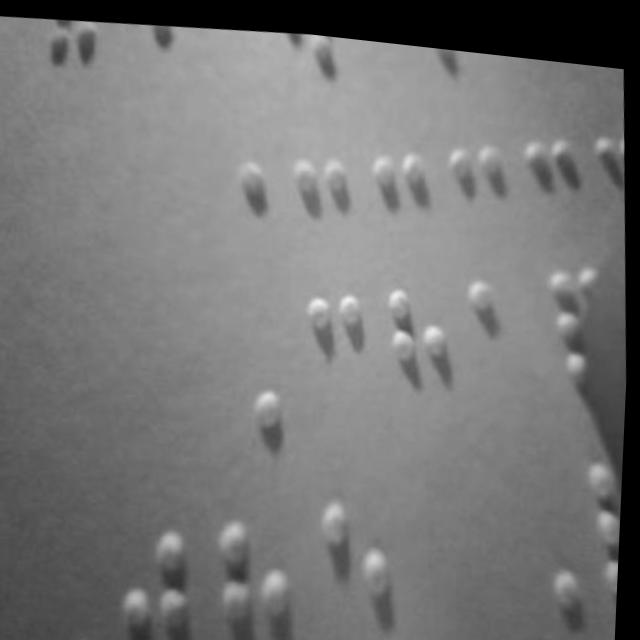braiile: (314, 485, 419, 640), (293, 269, 389, 427), (458, 255, 548, 423), (214, 500, 321, 640), (113, 497, 216, 640), (380, 266, 465, 427), (48, 14, 130, 124), (118, 17, 191, 117), (272, 24, 351, 96), (346, 30, 409, 90), (419, 37, 491, 83), (549, 48, 604, 67)
